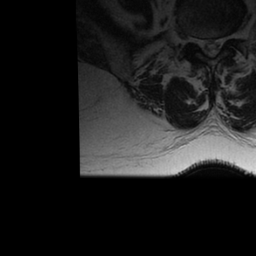CCS_normal: (207, 30, 215, 63)
LFS_severe_stenosis: (223, 24, 231, 48)
LLS_normal: (215, 31, 223, 57)
RFS_stenosis: (190, 28, 199, 50)
RLS_normal: (199, 32, 207, 57)
